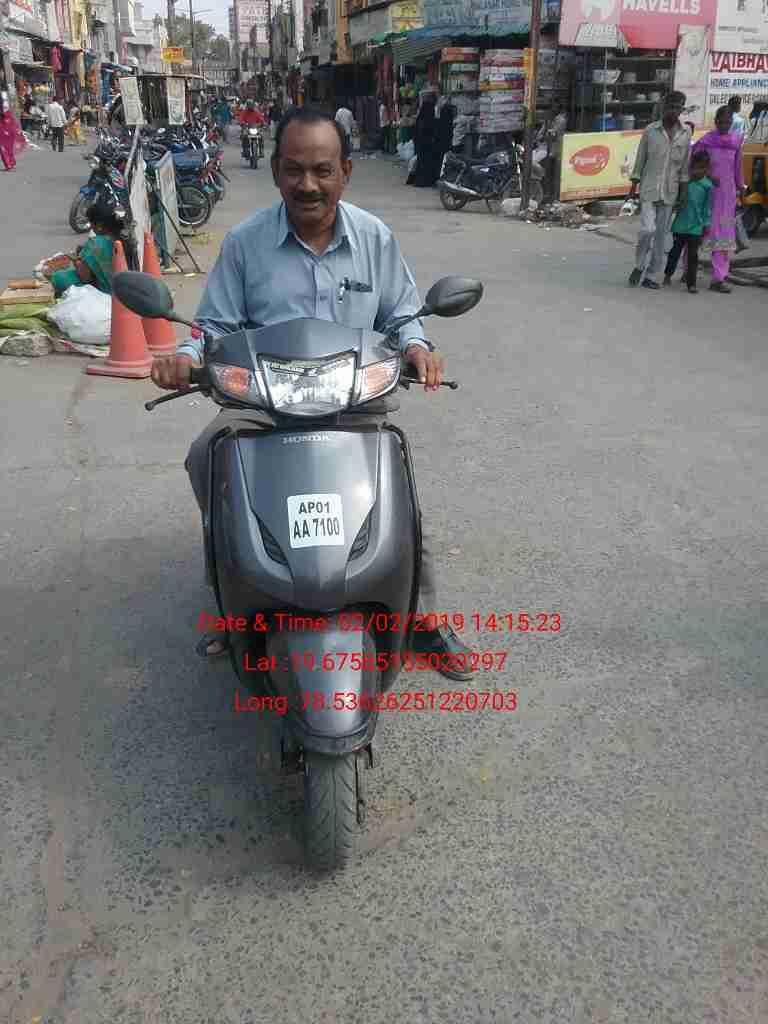plate: (277, 480, 355, 557)
